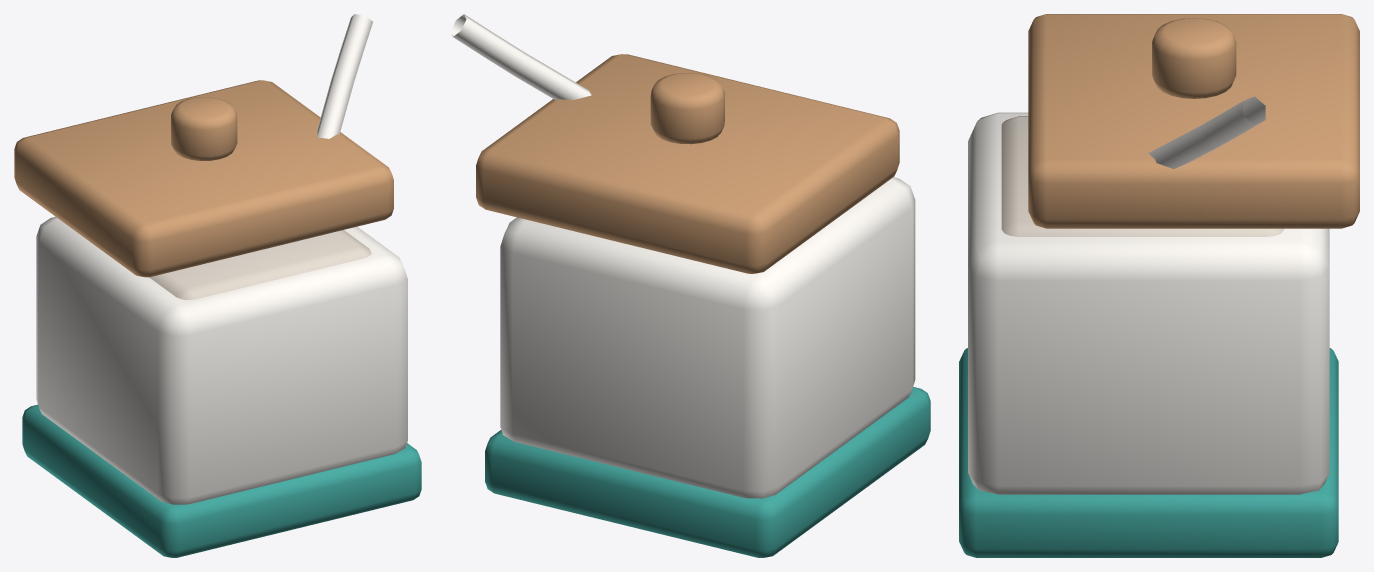
Rendered from topping_bin.glb.
The picture shows the model from 3 angles, left to right: view 1: azimuth 30°, elevation 25°; view 2: azimuth 150°, elevation 25°; view 3: azimuth 270°, elevation 25°; orthographic projection. The views are drawn at different scales.
Parts seen in each view (by area): view 1: Tint_Cream, Wood, MintDark, CreamDark, Cream; view 2: Tint_Cream, Wood, MintDark, Cream; view 3: Tint_Cream, Wood, MintDark, CreamDark, Cream.
Part boxes in pixels (x1,y1,x2,y2): Tint_Cream: (36, 216, 407, 504); Wood: (14, 80, 393, 277); MintDark: (22, 404, 421, 557); CreamDark: (149, 230, 371, 300); Cream: (317, 14, 372, 138); Tint_Cream: (500, 177, 915, 498); Wood: (476, 54, 899, 273); MintDark: (485, 387, 930, 557); Cream: (450, 14, 591, 100); Tint_Cream: (968, 112, 1329, 494); Wood: (1028, 14, 1359, 228); MintDark: (959, 348, 1338, 557); CreamDark: (1001, 116, 1284, 236); Cream: (1148, 96, 1265, 168).
Size of the model in its own units: 0.1546 by 0.1815 by 0.133.
